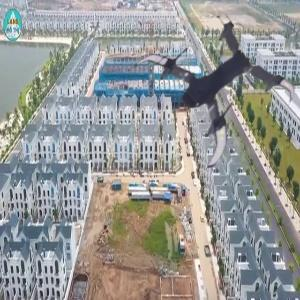drone: (134, 17, 282, 165)
